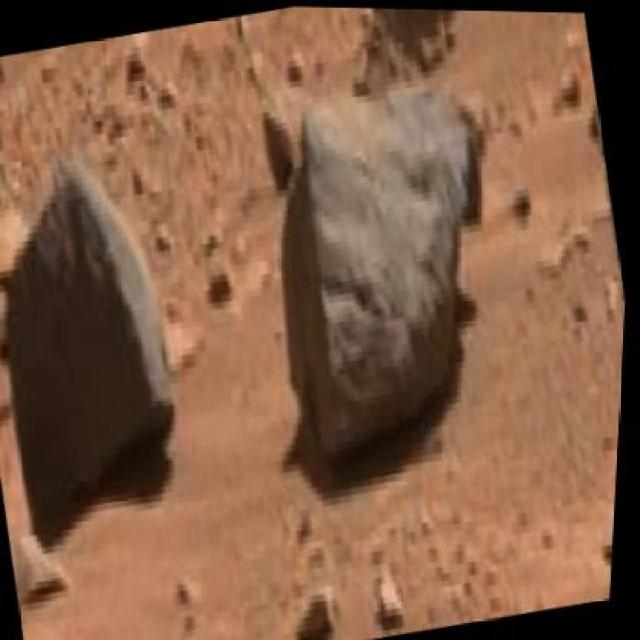rock: (236, 63, 544, 520), (0, 151, 217, 552), (342, 5, 491, 104), (10, 522, 85, 620), (581, 434, 621, 591), (286, 582, 352, 638), (0, 54, 15, 103)
